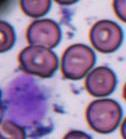M: (0, 72, 50, 126)
